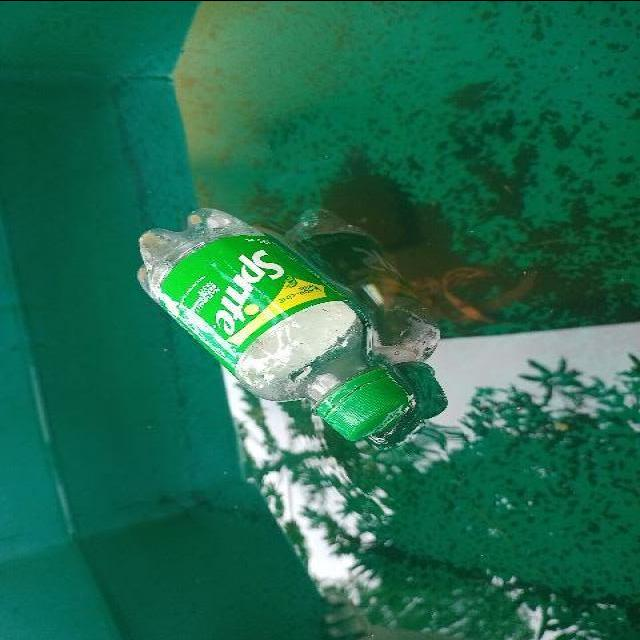Bottle: (126, 200, 418, 452)
